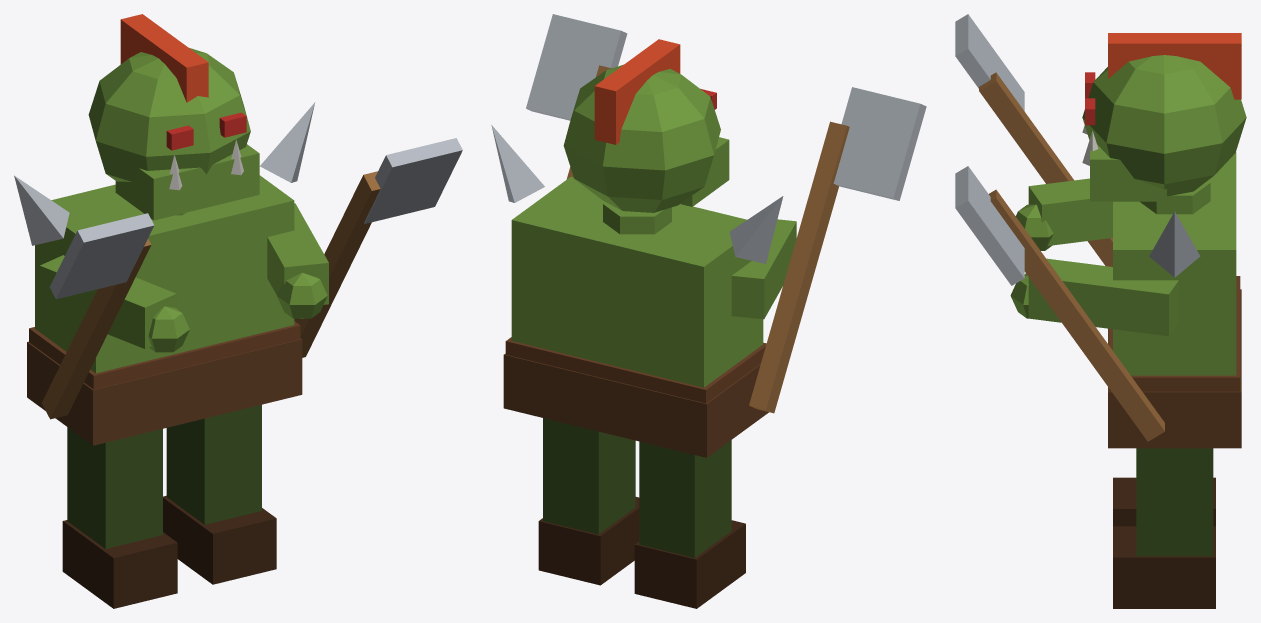
File: e_berserker.fbx
3 renders of one model, left to right at view 1: azimuth 30°, elevation 25°; view 2: azimuth 150°, elevation 25°; view 3: azimuth 270°, elevation 25°, orthographic. The views are drawn at different scales.
Visible parts, largest first — view 1: e_berserker_Body, e_berserker_LegR, e_berserker_LegL; view 2: e_berserker_Body, e_berserker_LegR, e_berserker_LegL; view 3: e_berserker_Body, e_berserker_LegL, e_berserker_LegR.
Part boxes in pixels (x1,y1,x2,y2): e_berserker_Body: (14,14,462,445); e_berserker_LegR: (62,427,177,608); e_berserker_LegL: (163,404,276,584); e_berserker_Body: (491,14,926,457); e_berserker_LegR: (634,440,745,608); e_berserker_LegL: (538,418,639,585); e_berserker_Body: (955,14,1246,448); e_berserker_LegL: (1113,448,1215,608); e_berserker_LegR: (1113,477,1215,526).
Size of the model in its own units: 0.86 by 1.14 by 0.5673.
